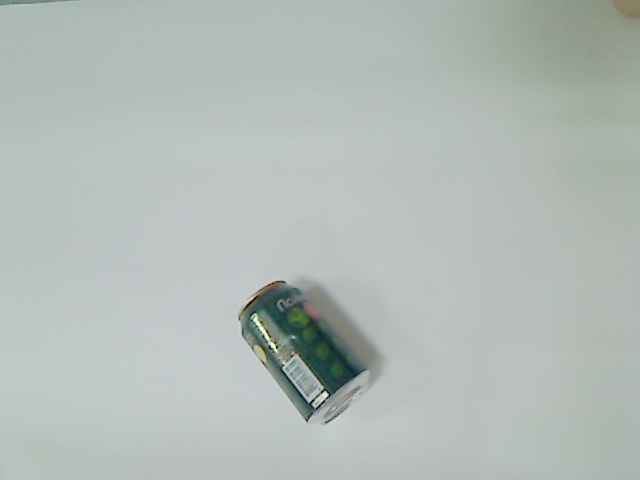can: (237, 278, 373, 429)
